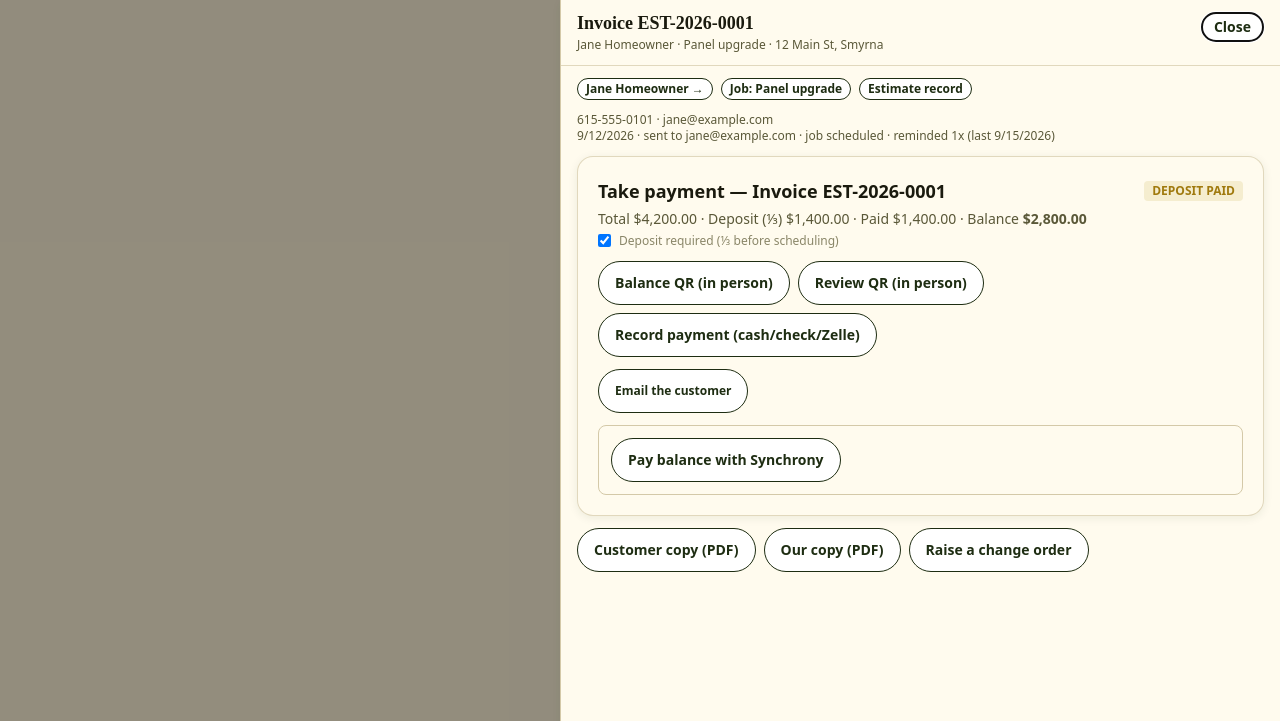
InvoiceDrawer › the walk: Email the customer -> Invoice -> pick a contact + CC -> 'Send invoice NNNN to …' sends it there, and a second send says it is a reminder
The width and height of the screenshot is (1280, 721).
Click the button "Email the customer". click: (673, 390)
box: [598,368,748,412]
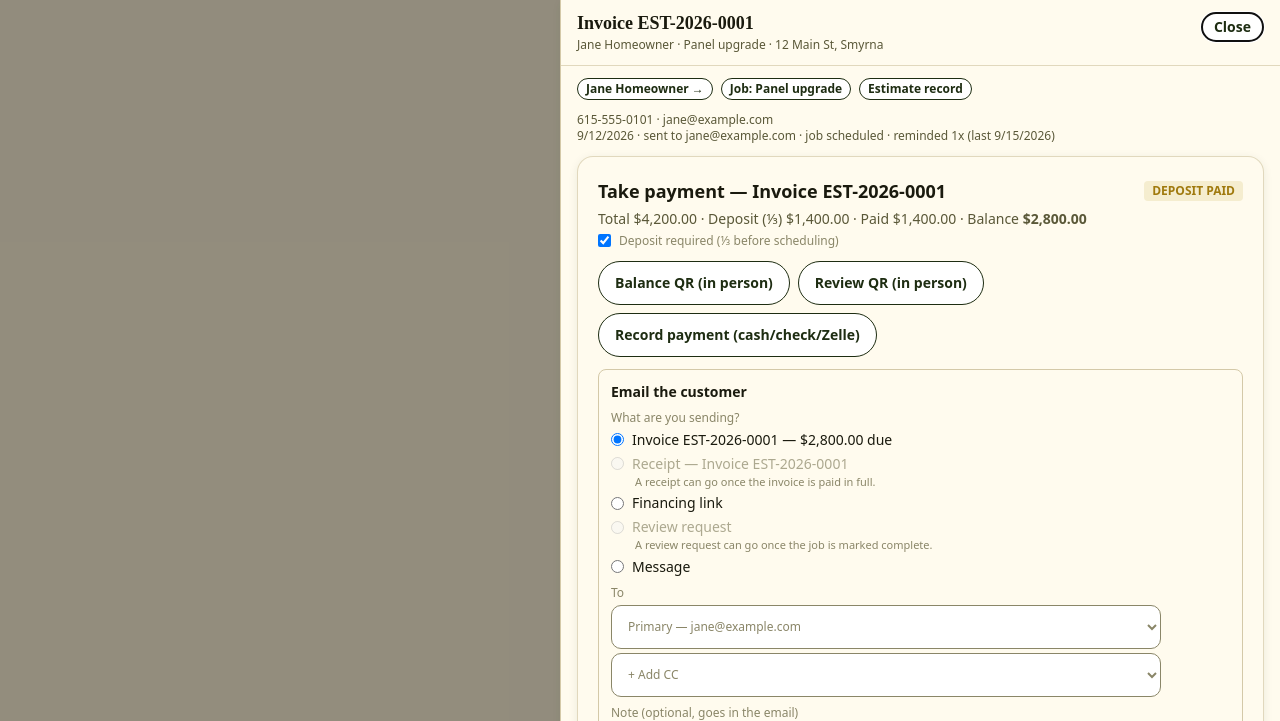
Expected: the radio button labelled "Invoice EST-2026-0001 — $2,800.00 due" is checked, [611,433,624,446]
Select "Property manager — pm@example.com" in the dropdown named "Send to". click: (886, 627)
box: [611,605,1161,649]
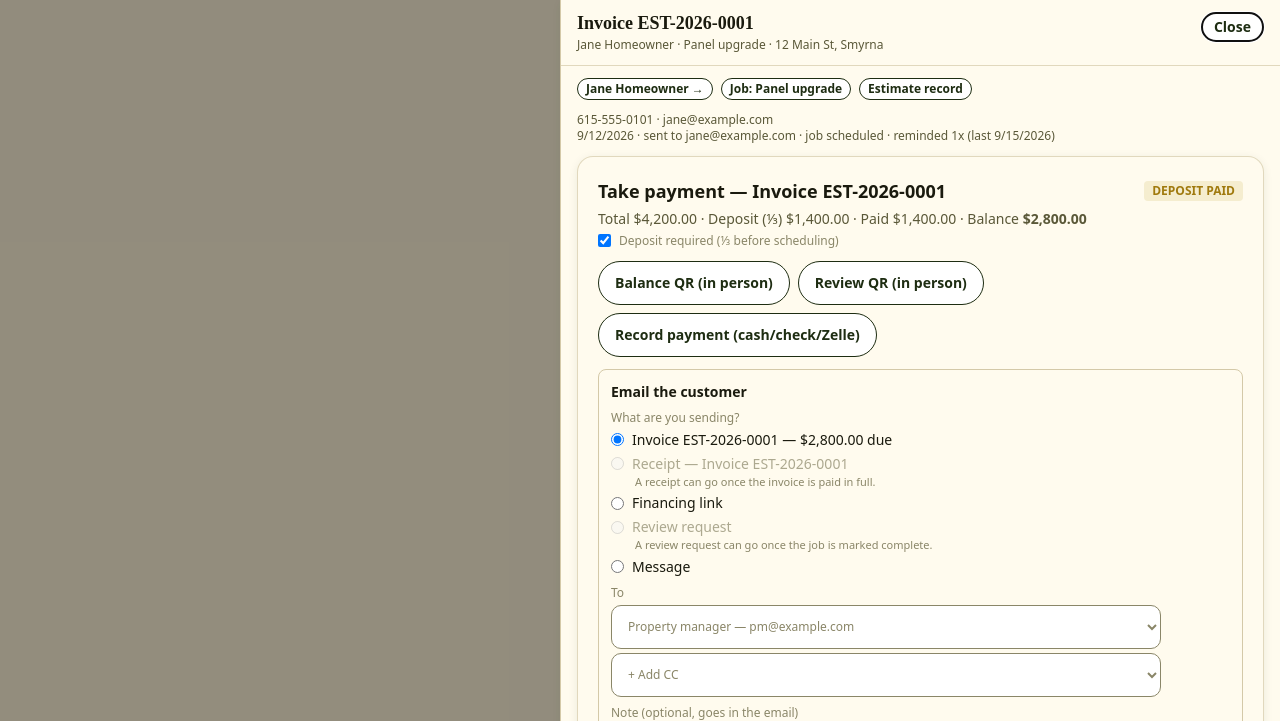
Select "Primary — jane@example.com" in the dropdown named "Add CC". click: (886, 675)
box: [611,653,1161,697]
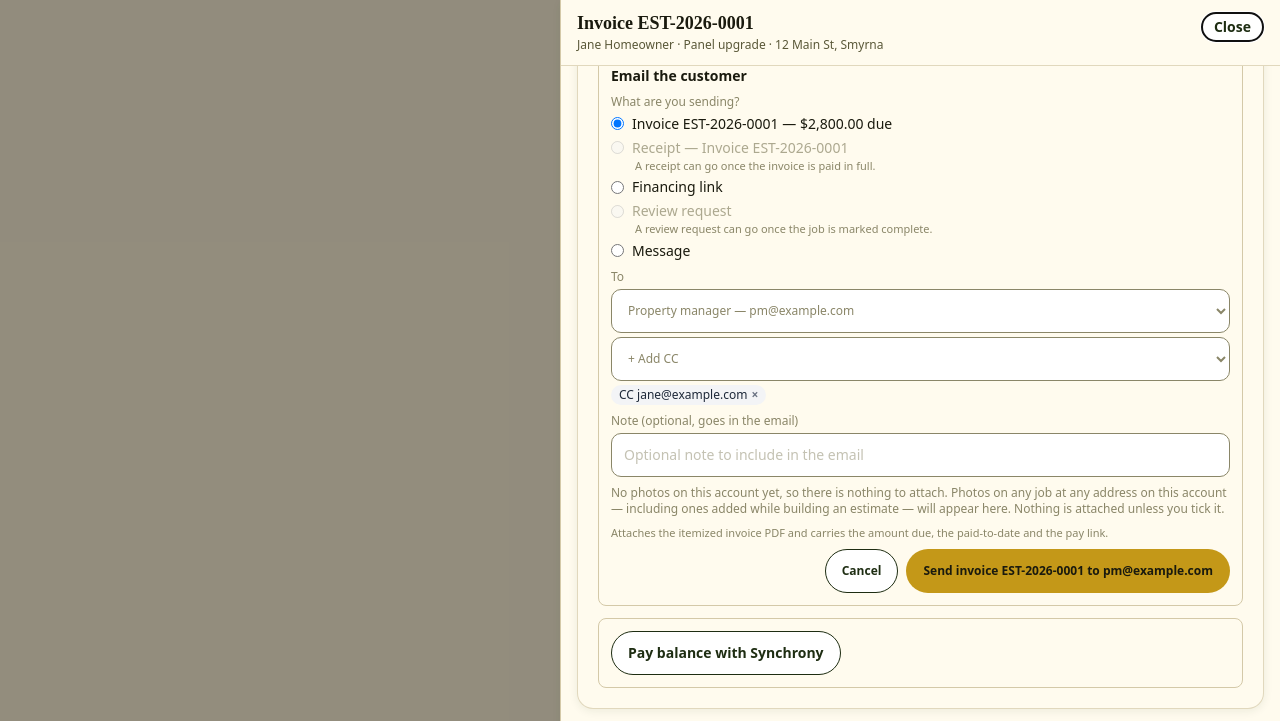
Click the button "Send invoice EST-2026-0001 to pm@example.com". click: (1068, 571)
box: [906,549,1230,593]
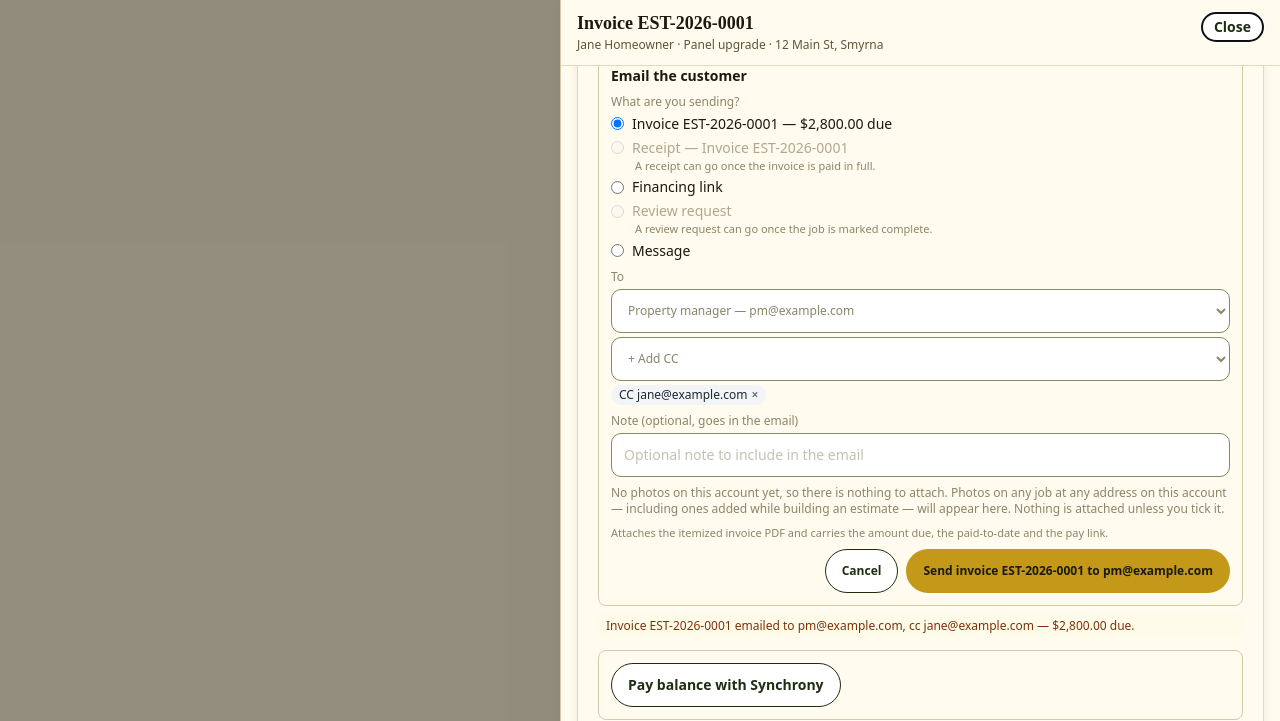
Expected: the text "Invoice EST-2026-0001 emailed to pm@example.com, cc jane@example.com — $2,800.00 due." is shown, [606,617,1134,634]
